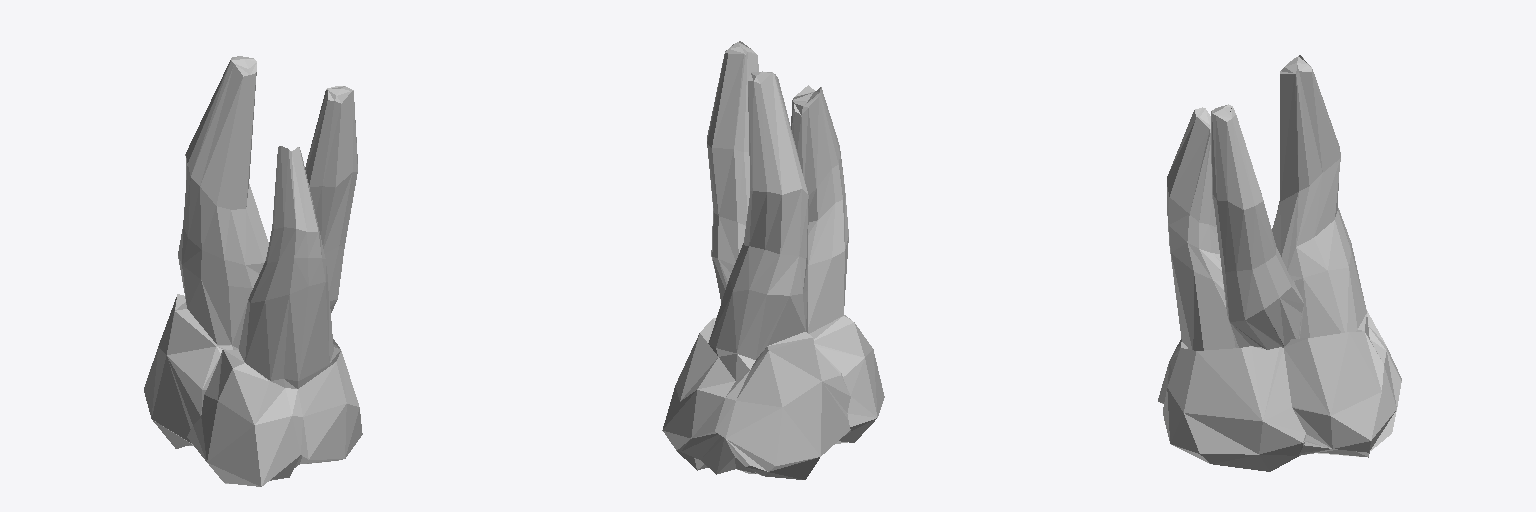
File: Upper_Molar_Left_02.obj
The picture shows the model from 3 angles: view 1: azimuth 30°, elevation 25°; view 2: azimuth 150°, elevation 25°; view 3: azimuth 270°, elevation 25°; orthographic projection.
Visible parts, largest first — view 1: Upper_Molar_Left_02 Upper_Teeth Teeth group1; view 2: Upper_Molar_Left_02 Upper_Teeth Teeth group1; view 3: Upper_Molar_Left_02 Upper_Teeth Teeth group1.
Boxes of the visible parts, x1=… form: Upper_Molar_Left_02 Upper_Teeth Teeth group1: x1=144, y1=56, x2=362, y2=486; Upper_Molar_Left_02 Upper_Teeth Teeth group1: x1=662, y1=41, x2=884, y2=479; Upper_Molar_Left_02 Upper_Teeth Teeth group1: x1=1158, y1=55, x2=1401, y2=471.
Bounding box in the file's own units: 0.1079 × 0.2526 × 0.1441.